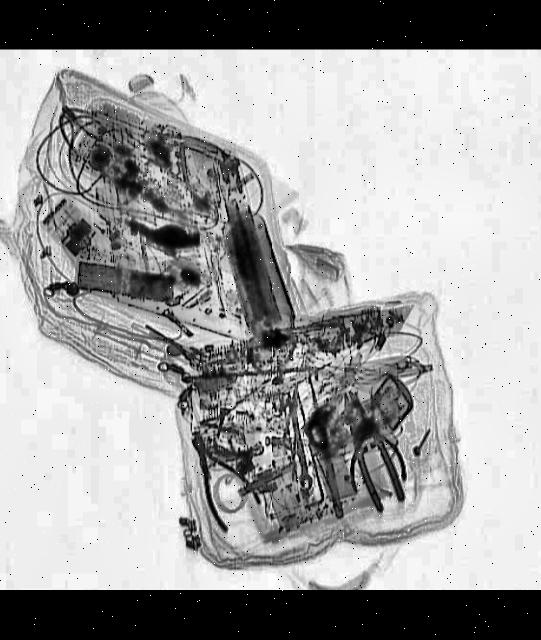Pliers: (172, 424, 269, 533), (332, 386, 409, 515), (342, 386, 408, 490)
Wrench: (283, 394, 316, 489)
